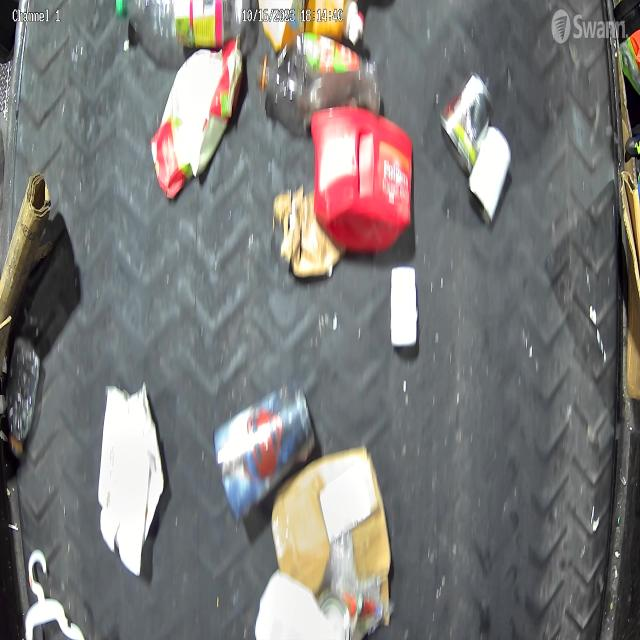can: (211, 381, 316, 524), (441, 71, 494, 175), (467, 124, 511, 225)
non_white_jug: (148, 36, 244, 201), (311, 110, 411, 251)
plastic_bottle: (257, 33, 381, 119), (116, 0, 247, 48), (8, 335, 40, 458)
